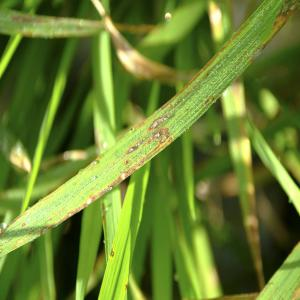Rice_Blast: (122, 129, 176, 160), (141, 104, 181, 134)
